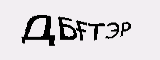Б: (56, 15, 78, 41)
Д: (20, 14, 55, 46)
Р: (119, 20, 132, 38)
Т: (87, 22, 106, 42)
Э: (105, 20, 120, 41)
Ғ: (74, 20, 88, 41)
